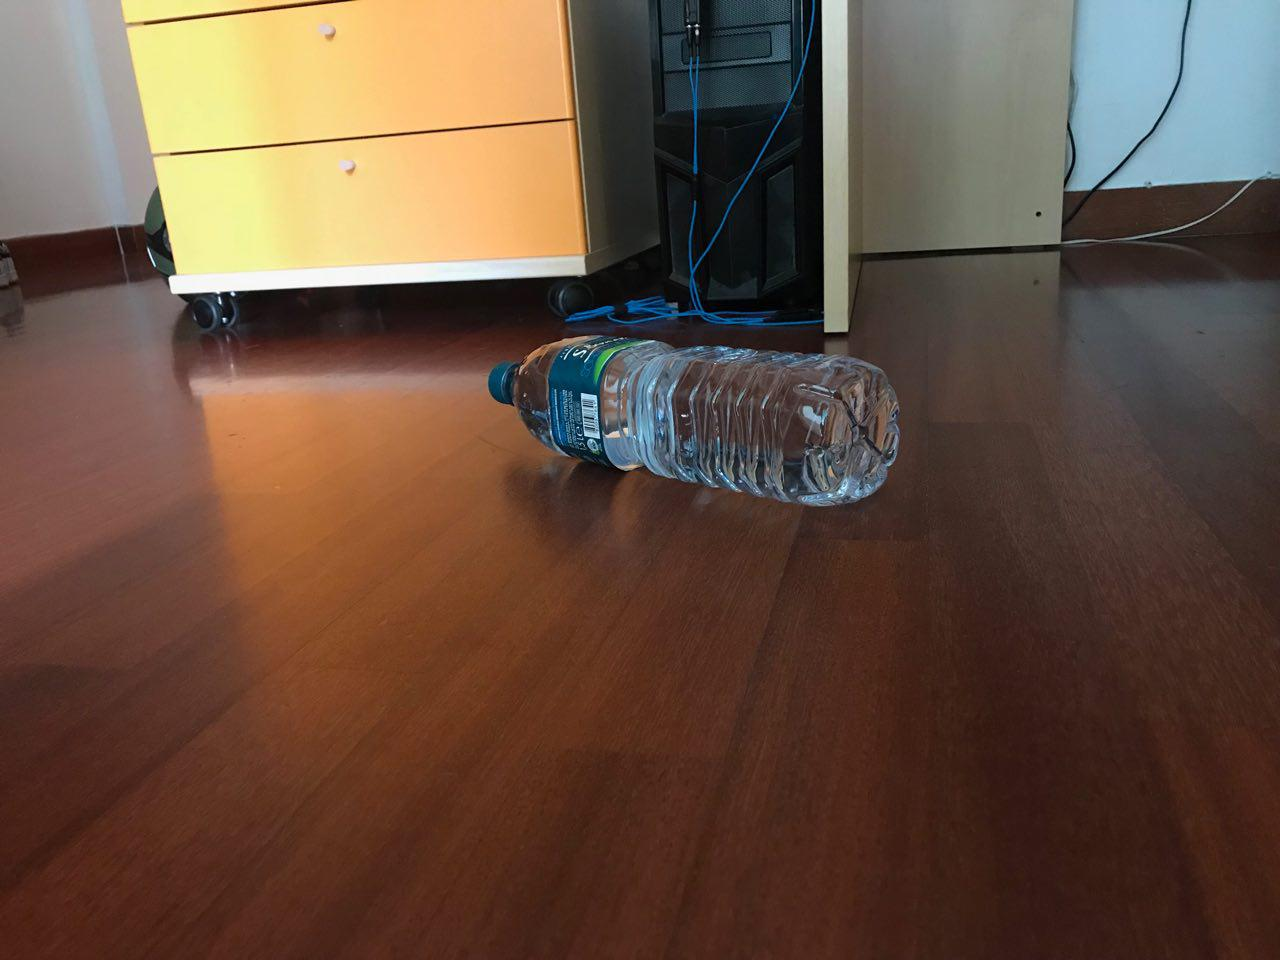san_bernardo: (486, 332, 902, 509)
